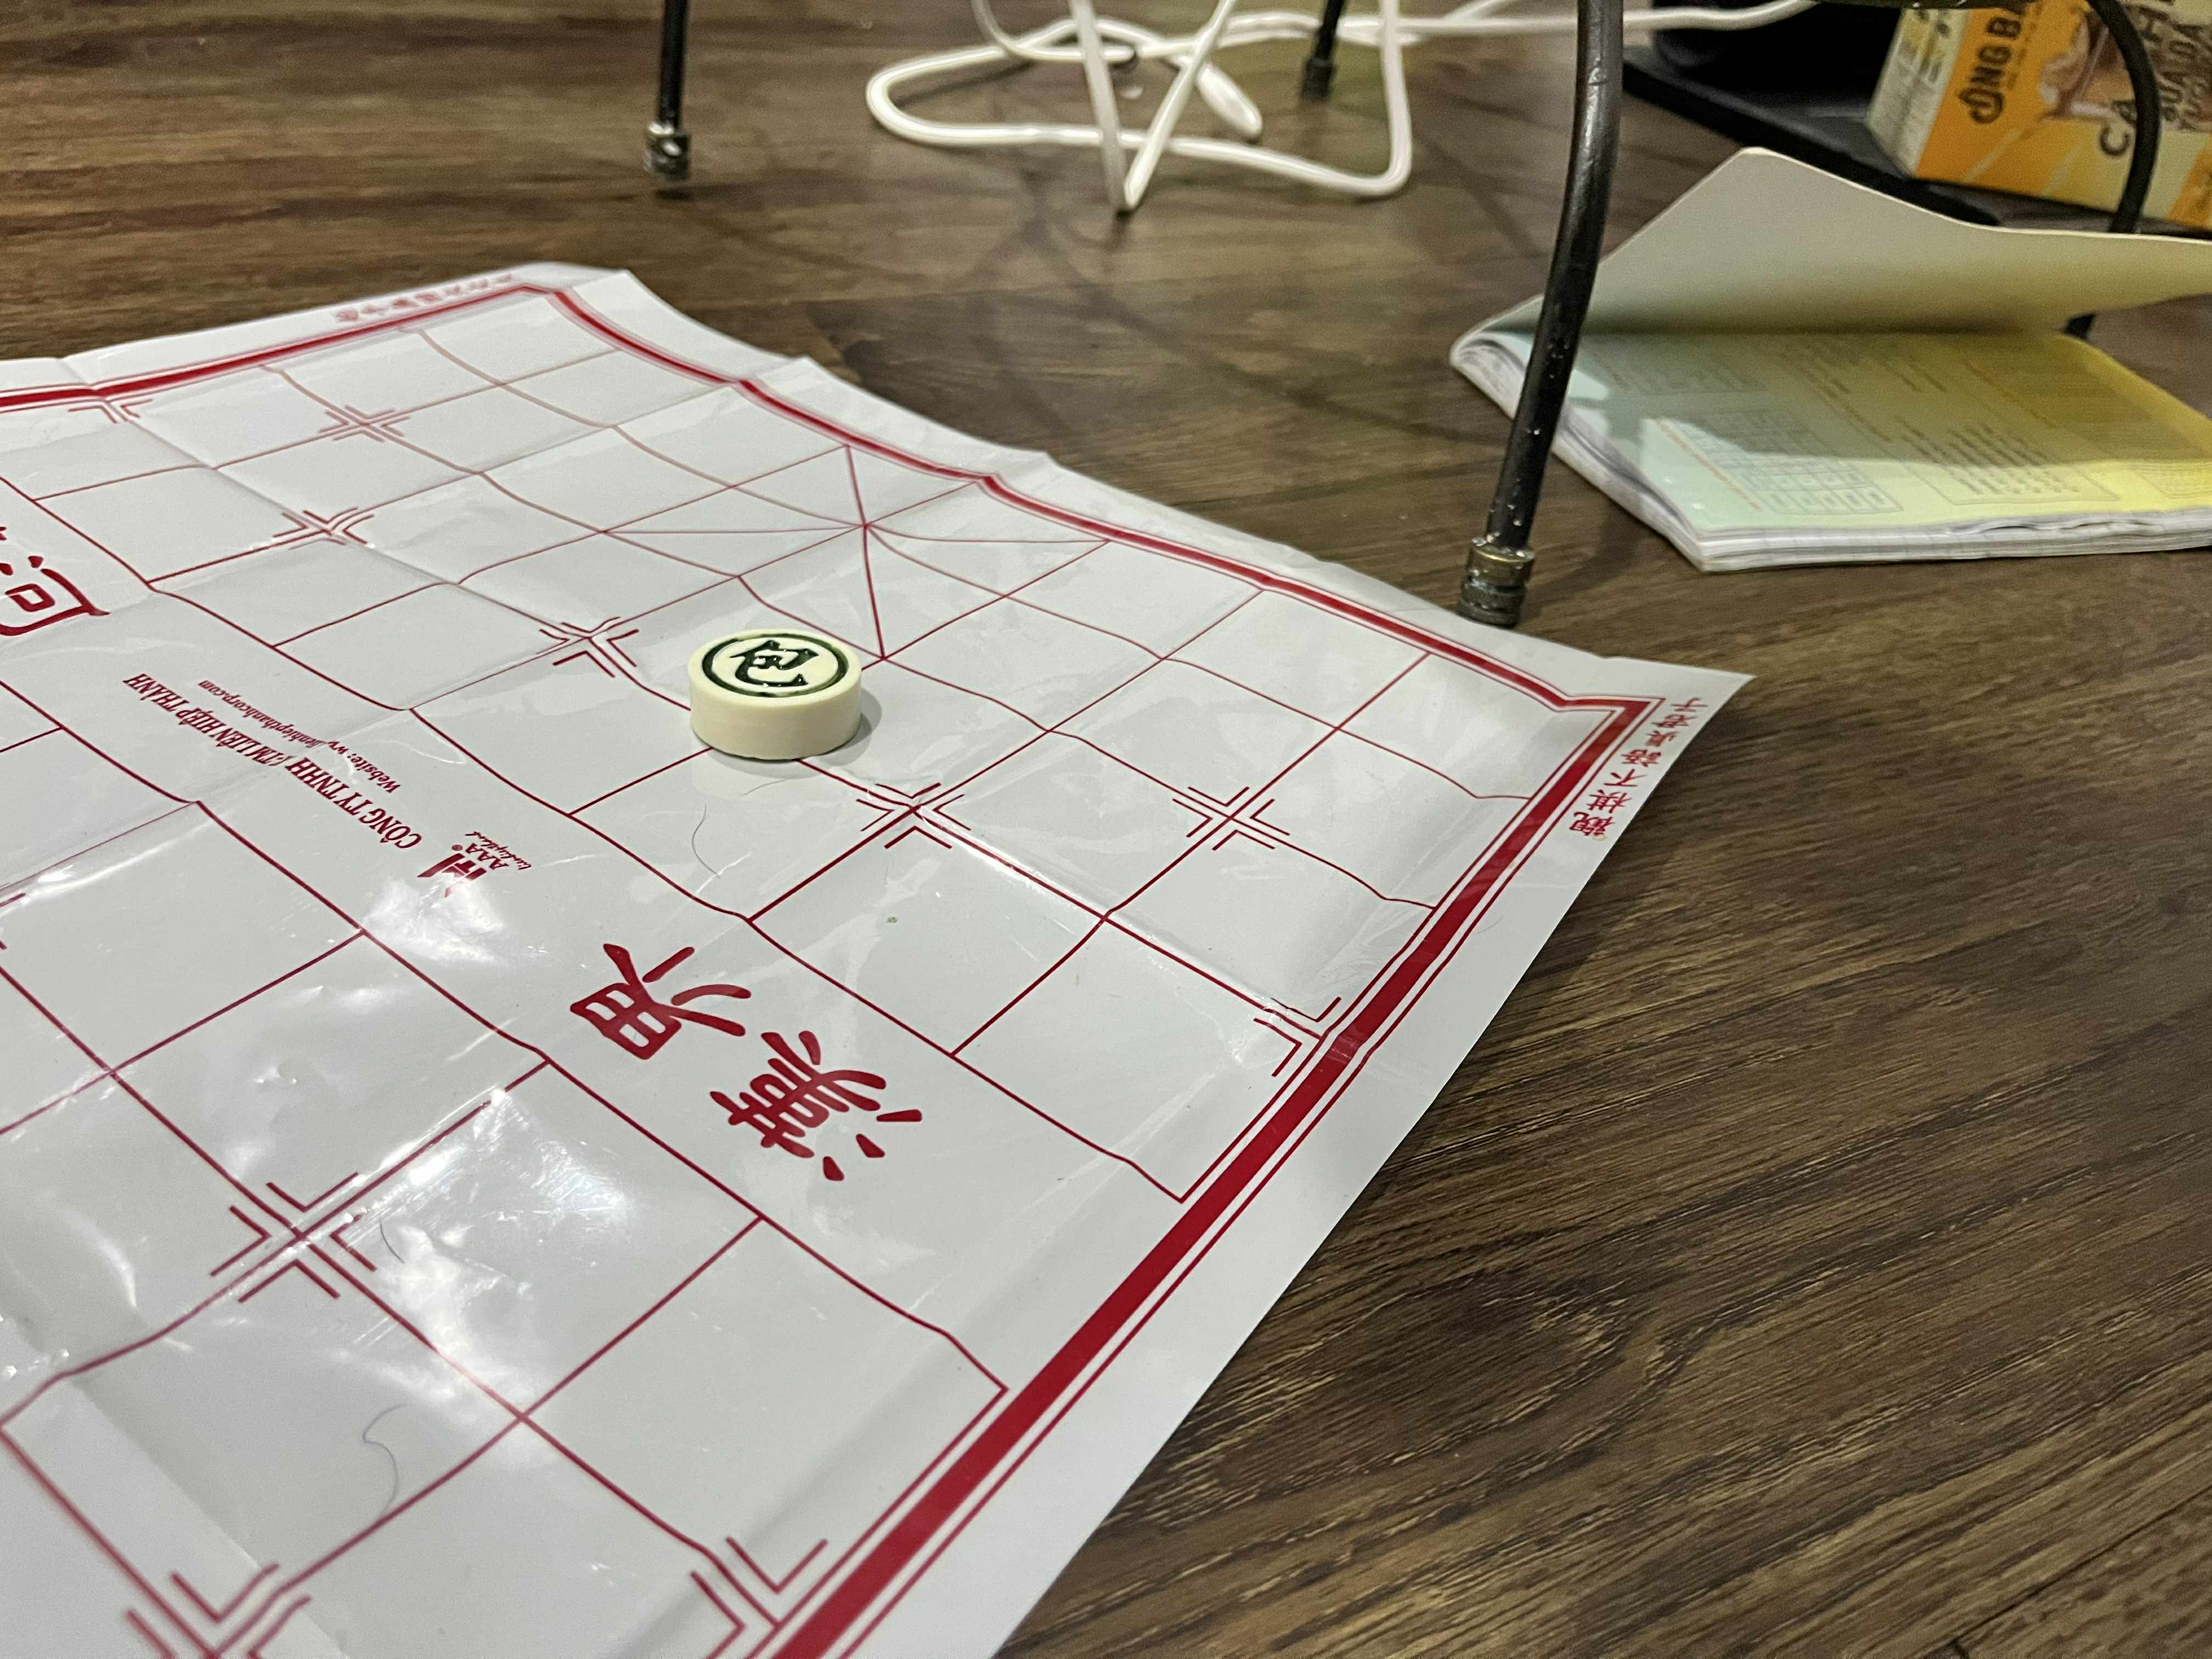black-cannon: (684, 625, 864, 707)
